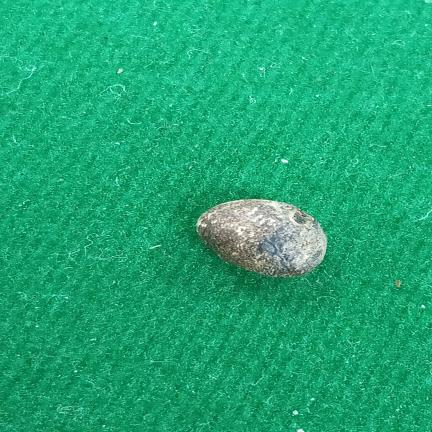partial-black: (196, 199, 327, 277)
